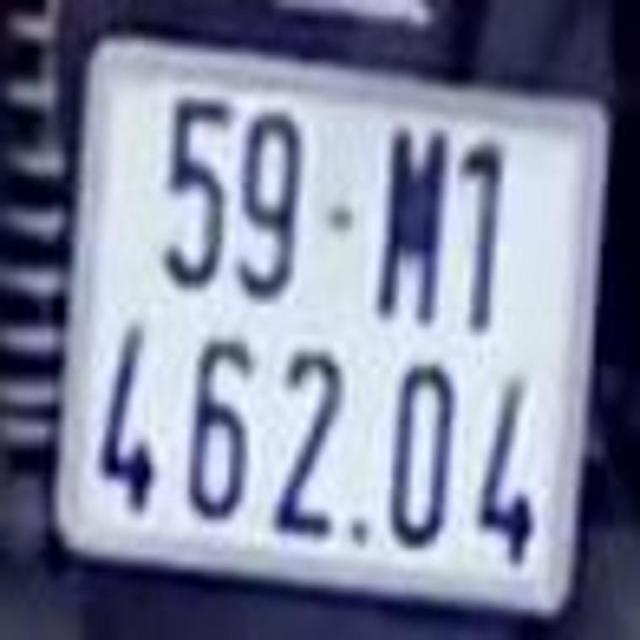0: (388, 359, 452, 548)
1: (458, 137, 507, 334)
2: (274, 346, 338, 538)
4: (476, 370, 540, 570), (98, 323, 156, 515)
5: (163, 95, 229, 288)
6: (190, 335, 251, 522)
9: (238, 110, 298, 299)
M: (381, 123, 448, 327)
